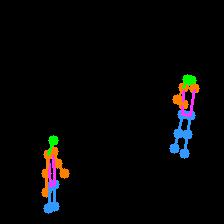normal: (35, 125, 69, 220), (170, 71, 203, 166)
